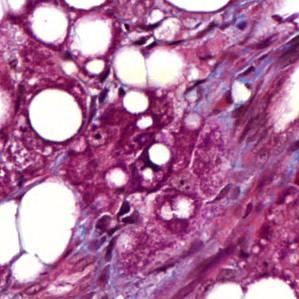steatosis: (27, 88, 87, 140), (31, 6, 69, 44)
